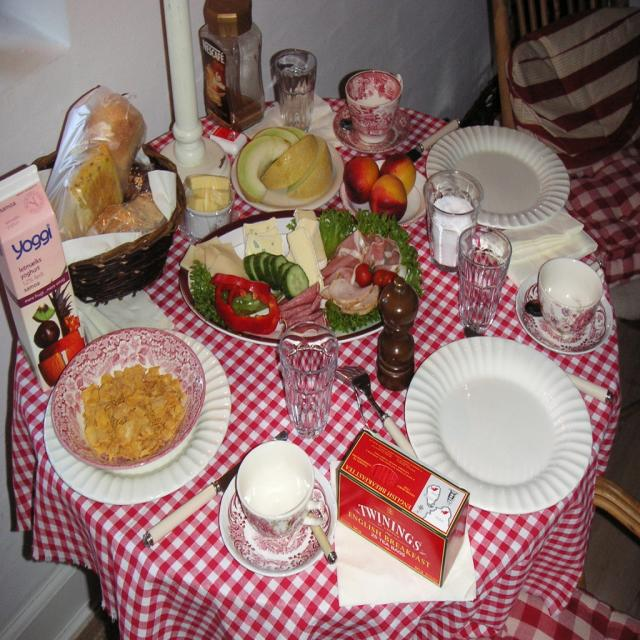non-organic waste: (419, 333, 609, 510)
